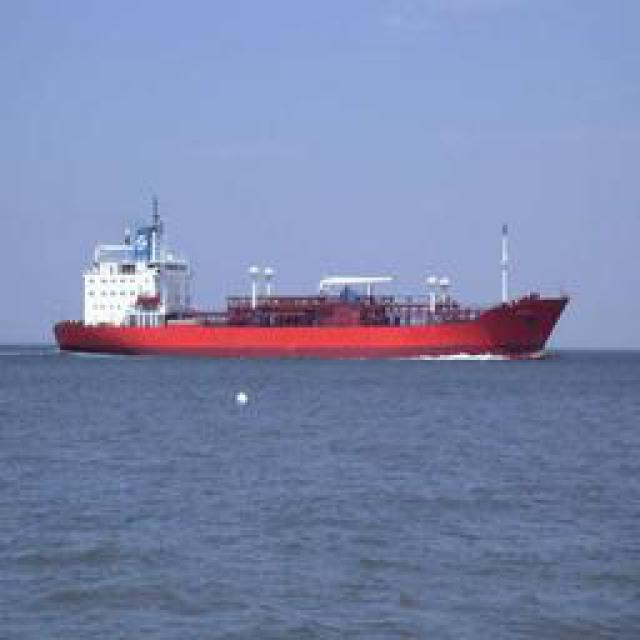Ship: (51, 215, 566, 363)
